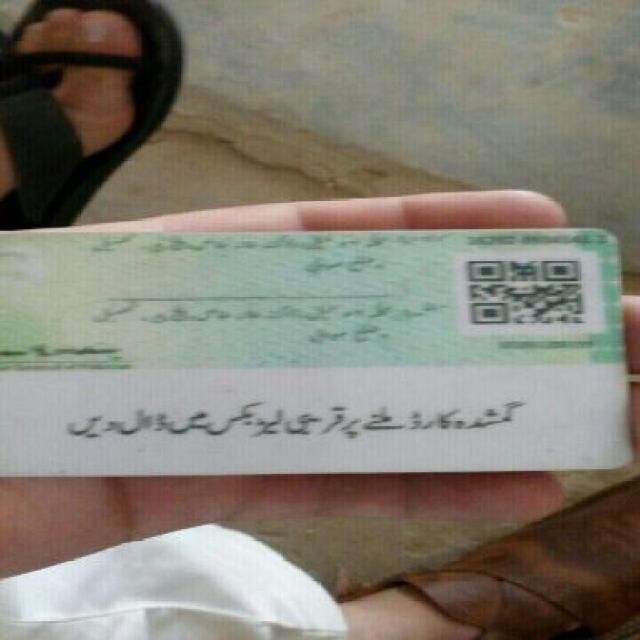Back: (3, 223, 628, 486)
